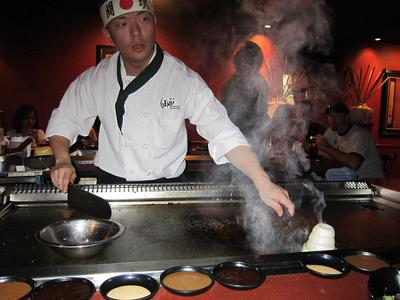person: (48, 2, 297, 221)
